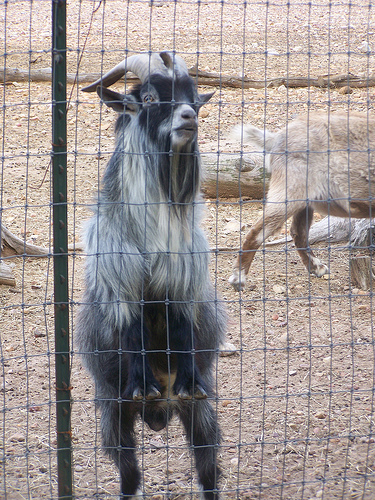goat: (74, 51, 227, 500), (234, 105, 375, 292)
